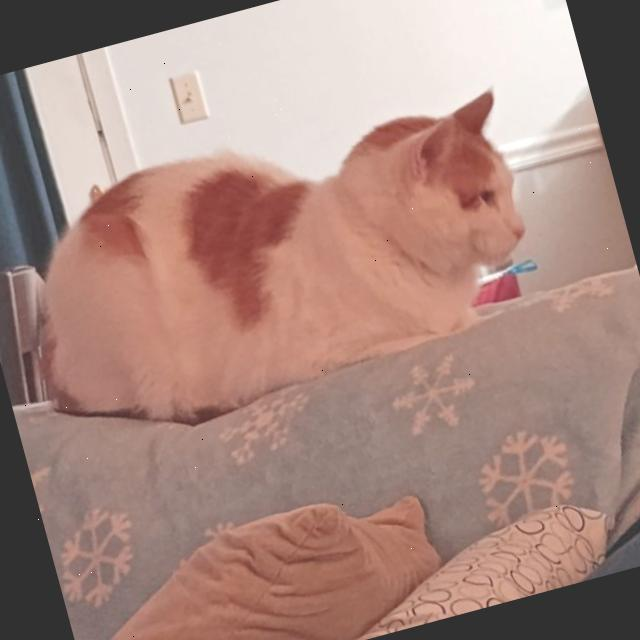american_shorthair_cat: (317, 68, 548, 319)
